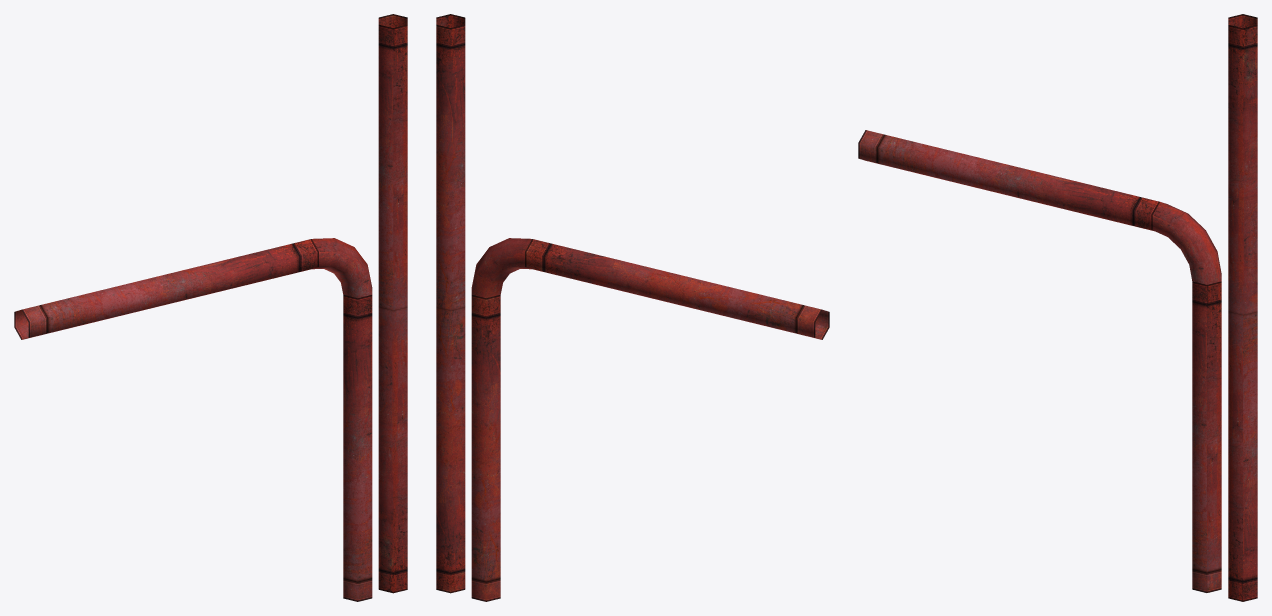
File: RedPipe.fbx
The picture shows the model from 3 angles, left to right: view 1: azimuth 30°, elevation 25°; view 2: azimuth 150°, elevation 25°; view 3: azimuth 330°, elevation 25°; orthographic projection.
Visible parts, largest first — view 1: RedPipe; view 2: RedPipe; view 3: RedPipe.
Boxes of the visible parts, x1=… form: RedPipe: x1=14, y1=14, x2=407, y2=601; RedPipe: x1=436, y1=14, x2=829, y2=601; RedPipe: x1=858, y1=14, x2=1257, y2=601.
Size of the model in its own units: 406 by 567 by 26.41.
